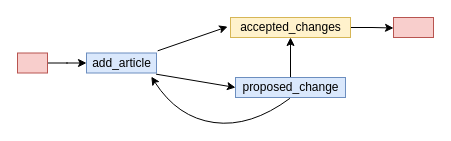
The diagram is 451 pixels wide and 141 high, and some of its shapes have lost their labels. The shapes that lost their labels are listed below. From the top down, each one's box as (x1, y1, x2, y2) in pixels, then its label:
(392, 16, 434, 38): end
(16, 52, 48, 73): init
